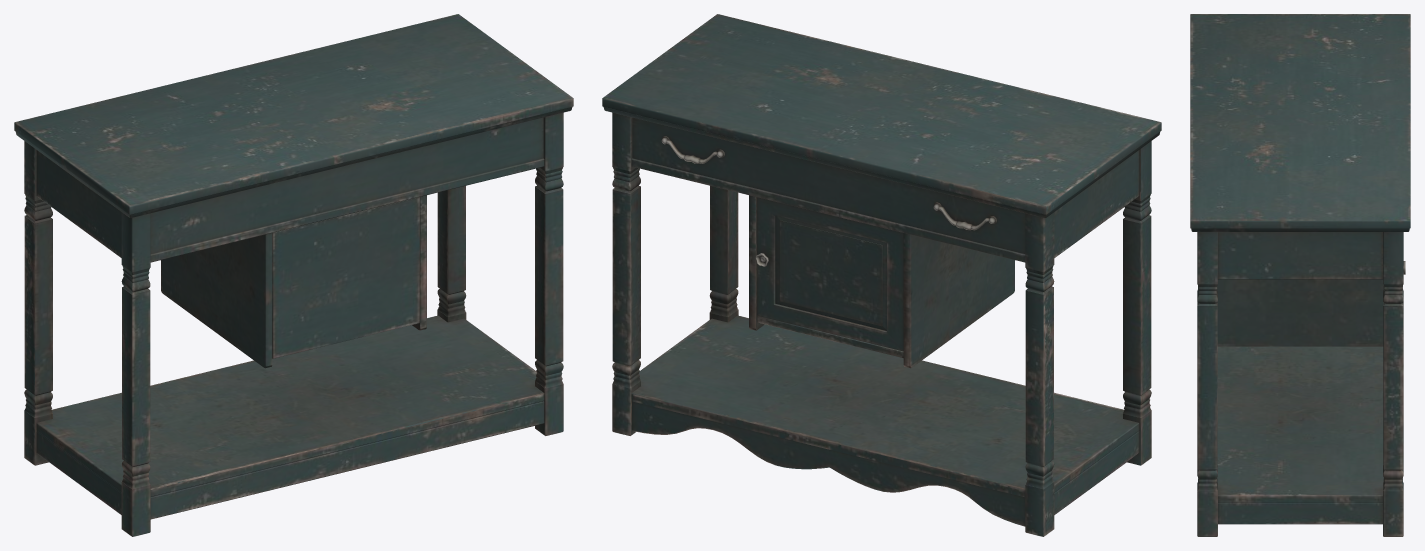
The model's file is Table.fbx.
3 renders of one model, left to right at view 1: azimuth 30°, elevation 25°; view 2: azimuth 150°, elevation 25°; view 3: azimuth 270°, elevation 25°, orthographic. The views are drawn at different scales.
Parts seen in each view (by area): view 1: old_rustic_stand; view 2: old_rustic_stand; view 3: old_rustic_stand.
Part boxes in pixels (x1,y1,x2,y2): old_rustic_stand: (14,14,573,536); old_rustic_stand: (602,14,1161,536); old_rustic_stand: (1190,14,1410,536).
Bounding box in the file's own units: 1270 × 914 × 572.
1 material, 1 textured.
